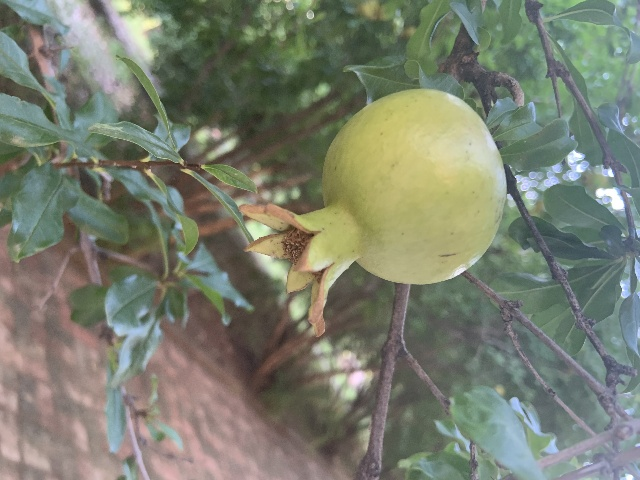mid-growth: (239, 89, 505, 337)
